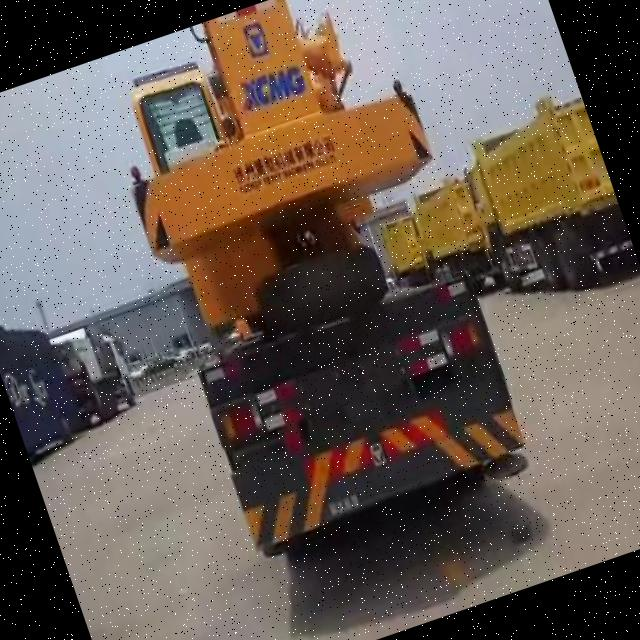Mobile Crane: (84, 0, 542, 570)
